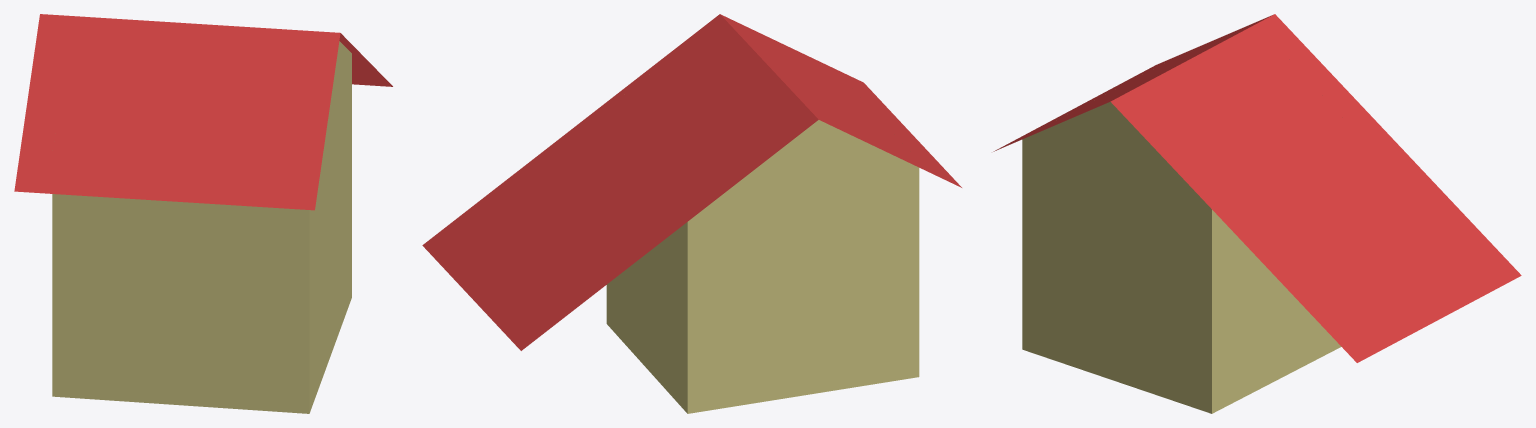
3 renders of one model, left to right at view 1: azimuth 30°, elevation 25°; view 2: azimuth 150°, elevation 25°; view 3: azimuth 270°, elevation 25°, orthographic. The views are drawn at different scales.
Bounding box in the file's own units: 22.19 × 23.64 × 13.9.
